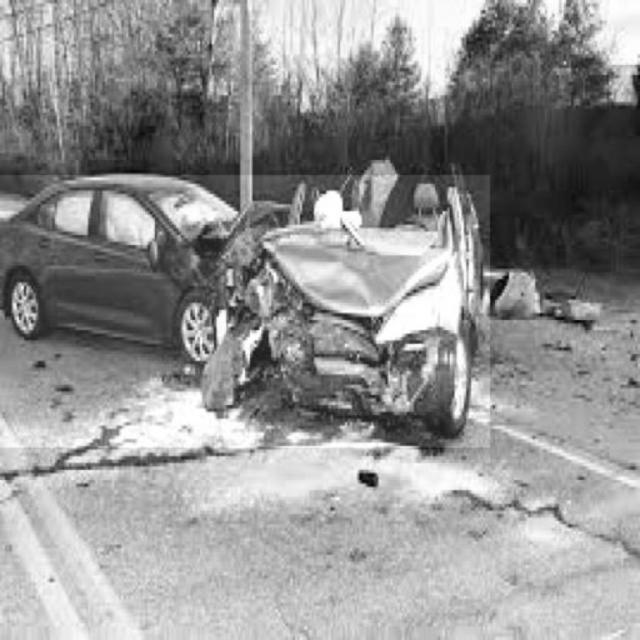accident: (1, 175, 491, 447)
